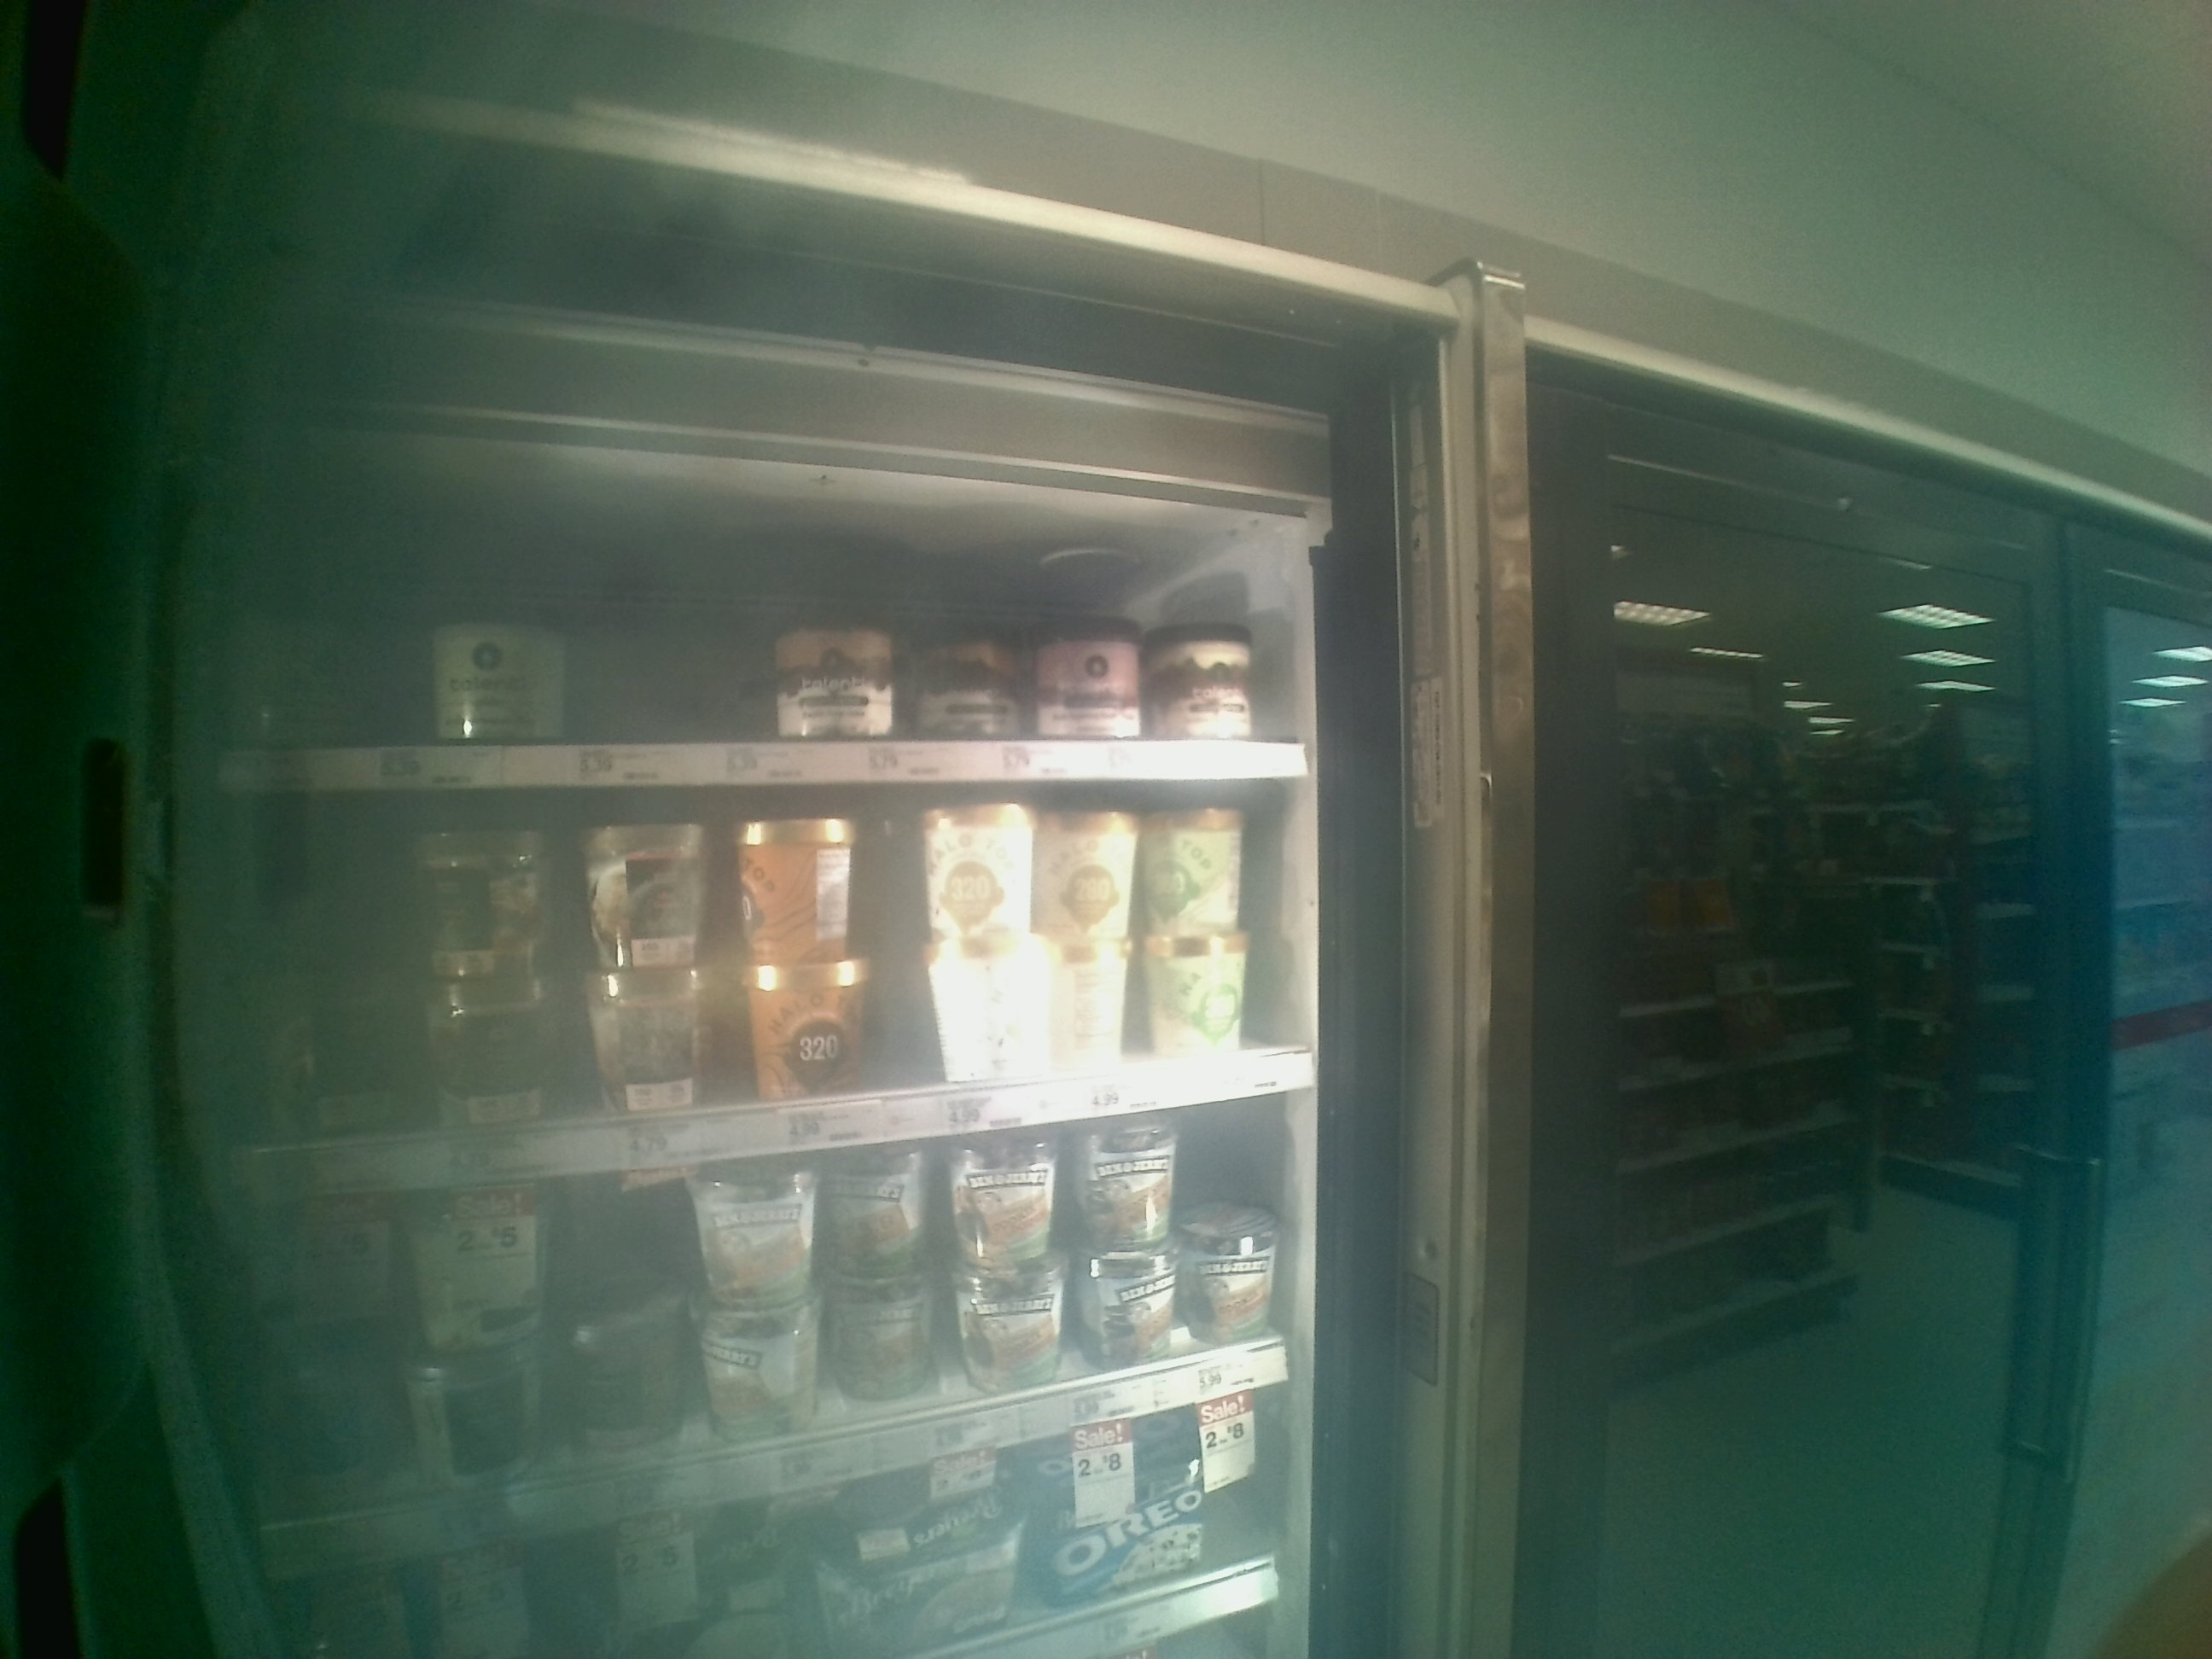shelf: (212, 791, 1327, 1183), (216, 436, 1332, 788)
